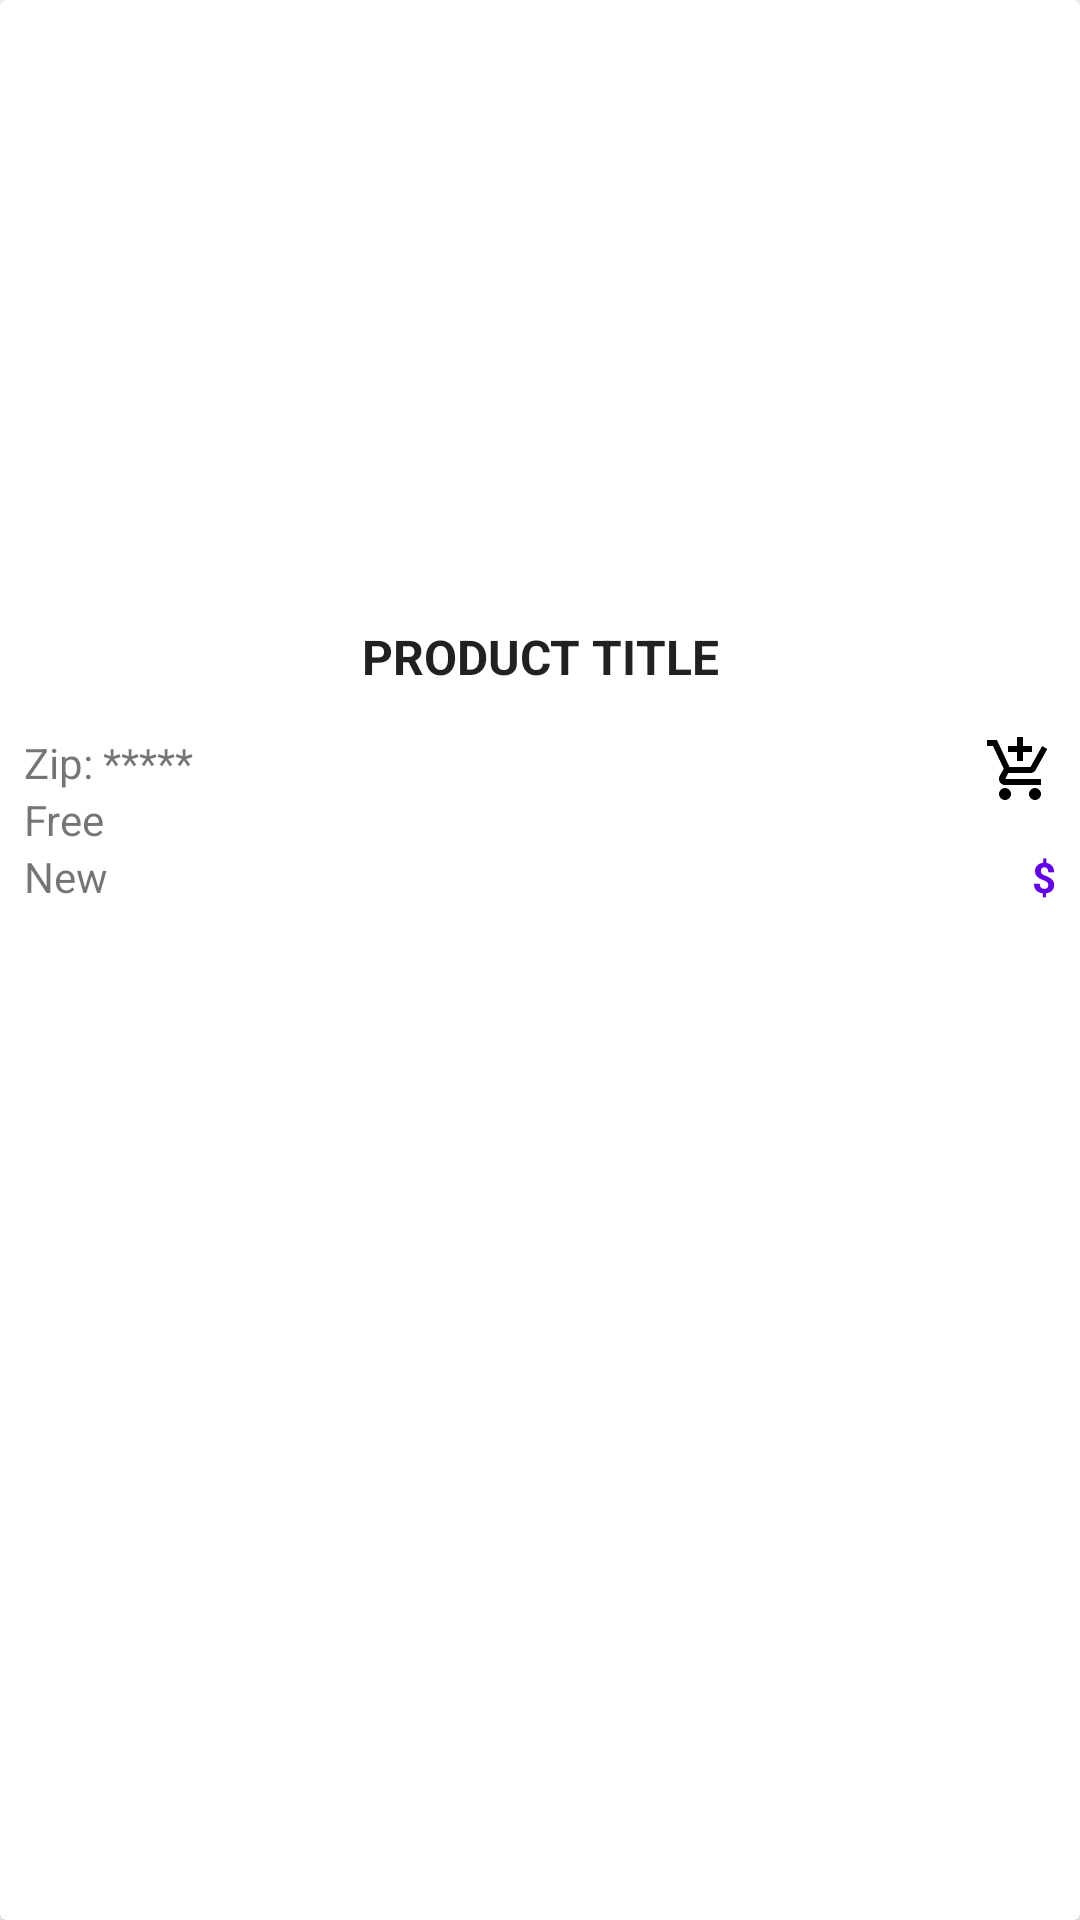

Icons on this 1080x1920 Android screen, each with the point to tap as point (x, y):
cart plus: point (1017, 768)
